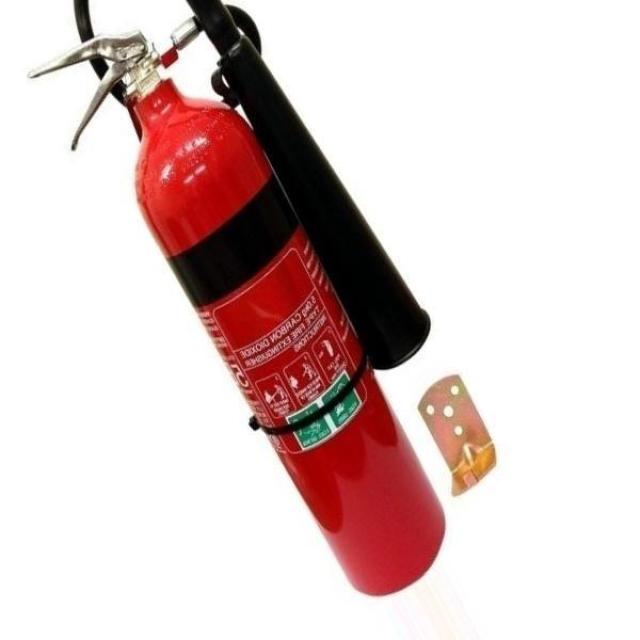fire_extinguisher: (21, 0, 452, 602)
